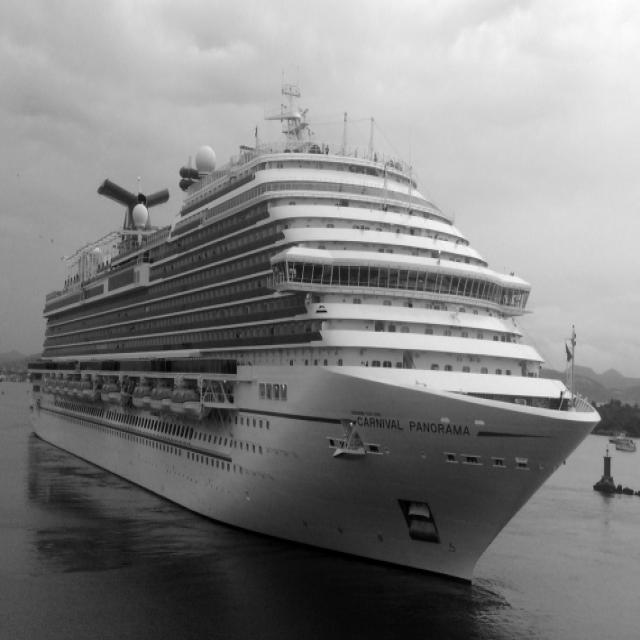cruises: (26, 84, 604, 608)
